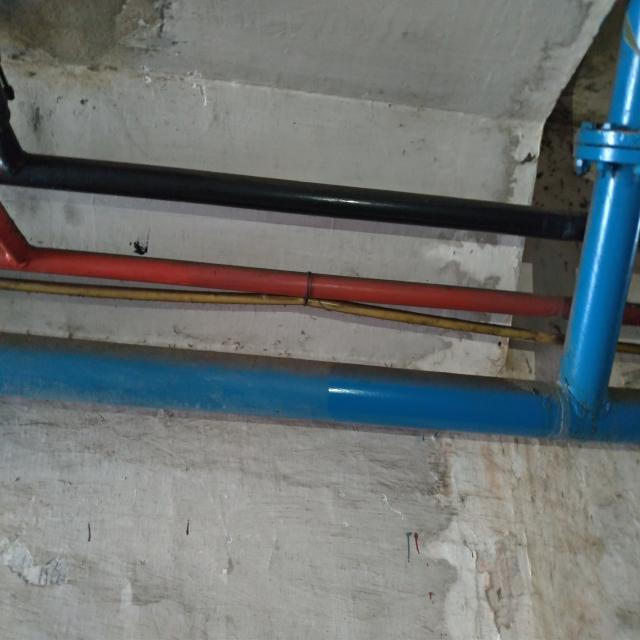gas: (7, 335, 638, 444), (3, 158, 585, 241), (6, 243, 571, 315), (559, 167, 640, 390)
